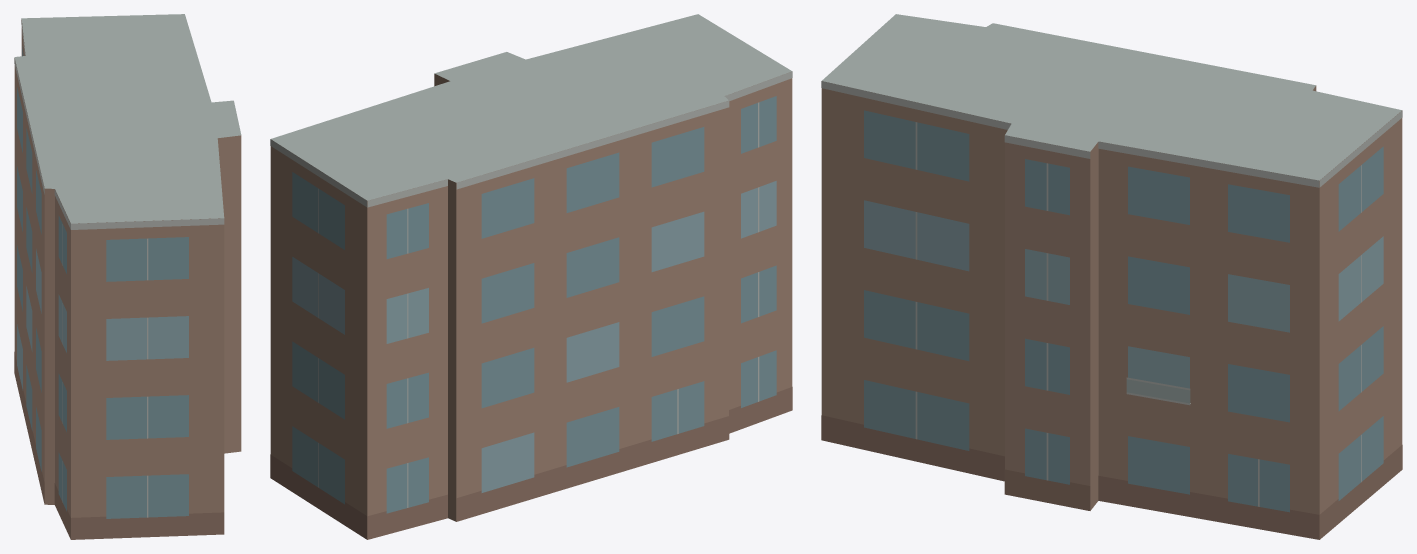
Rendered from survey-upis-32745123.glb.
The picture shows the model from 3 angles, left to right: view 1: azimuth 30°, elevation 25°; view 2: azimuth 150°, elevation 25°; view 3: azimuth 270°, elevation 25°; orthographic projection. The views are drawn at different scales.
Parts seen in each view (by area): view 1: survey-upis-32745123.tmp; view 2: survey-upis-32745123.tmp; view 3: survey-upis-32745123.tmp.
Part boxes in pixels (x1=…): survey-upis-32745123.tmp: x1=14, y1=14, x2=241, y2=539; survey-upis-32745123.tmp: x1=270, y1=14, x2=792, y2=539; survey-upis-32745123.tmp: x1=821, y1=14, x2=1402, y2=539.
Bounding box in the file's own units: 12.04 × 12.1 × 17.74.
